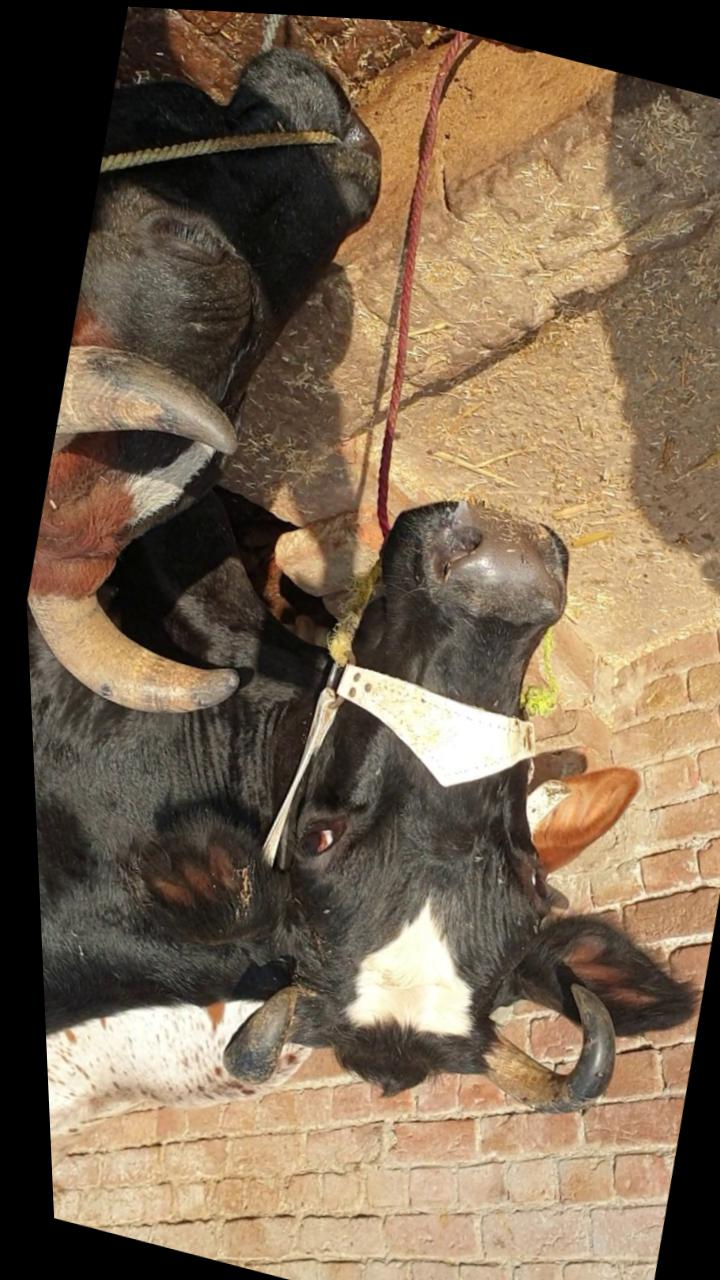cows: (208, 433, 694, 1106), (0, 0, 436, 723)
